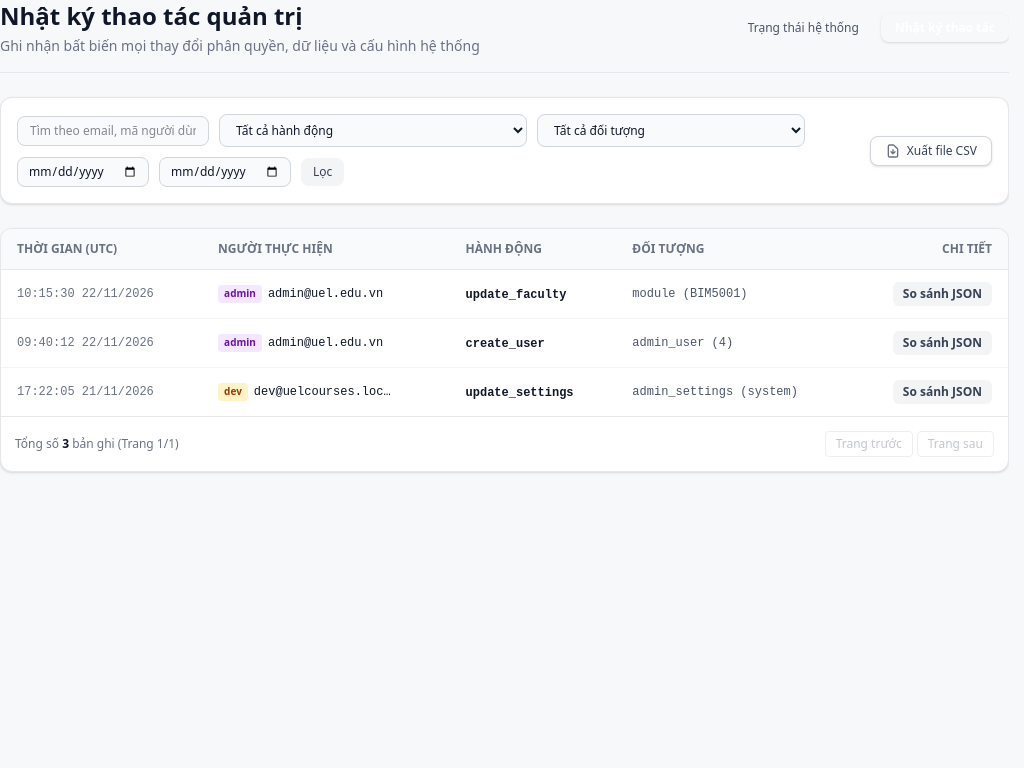
Test: Brief A6: Hệ thống, Nhật ký, Tài khoản & Cài đặt quản trị › 2. Trang Nhật ký thao tác quản trị (/admin/audit) › hiển thị danh sách nhật ký thao tác và mở hộp thoại So sánh JSON (diff)
Expected: the text "update_faculty" is shown, top-left (466, 288), bottom-right (566, 302)
Expected: the text "admin@uel.edu.vn" in the row of "10:15:30 22/11/2026" is shown, top-left (268, 287), bottom-right (383, 301)
Bấm nút "So sánh JSON"
Click the button "So sánh JSON" in the row of "10:15:30 22/11/2026" at (942, 294), box top-left (893, 282), bottom-right (992, 306)
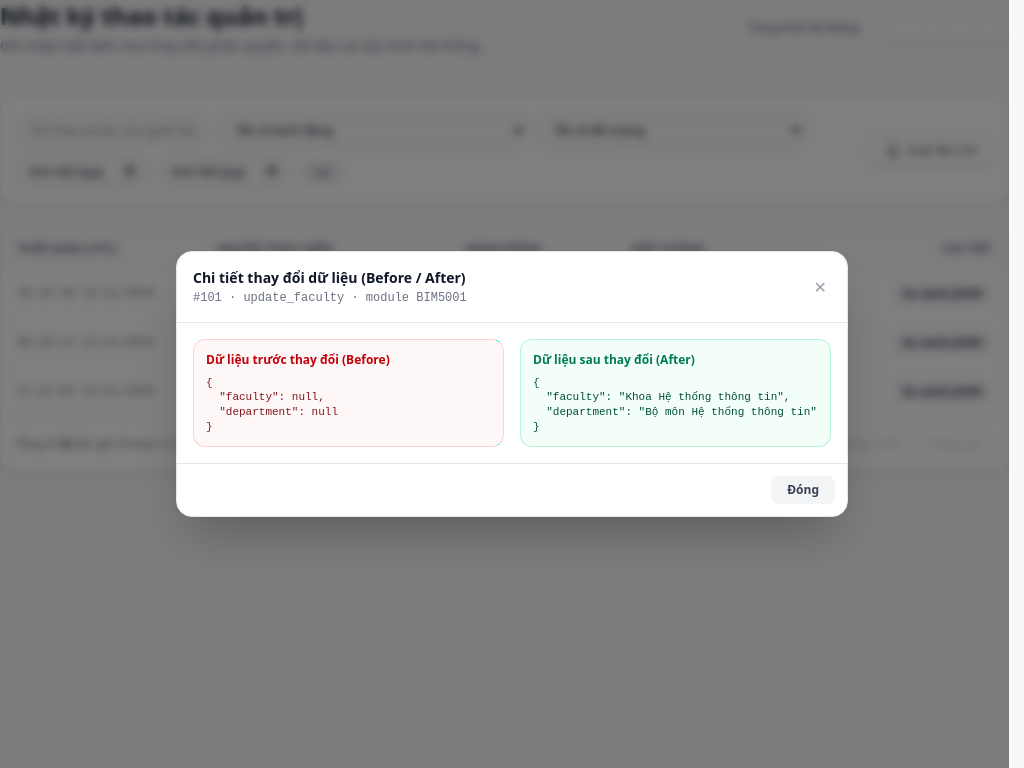
Result: the heading "Chi tiết thay đổi dữ liệu (Before / After)" is shown at top-left (193, 268), bottom-right (467, 288)
Result: the text "Dữ liệu trước thay đổi (Before)" is shown at top-left (206, 351), bottom-right (390, 368)
Result: the text "Dữ liệu sau thay đổi (After)" is shown at top-left (533, 351), bottom-right (695, 368)
Bấm Đóng modal
Click the button "Đóng" at (803, 490), box top-left (771, 476), bottom-right (835, 504)
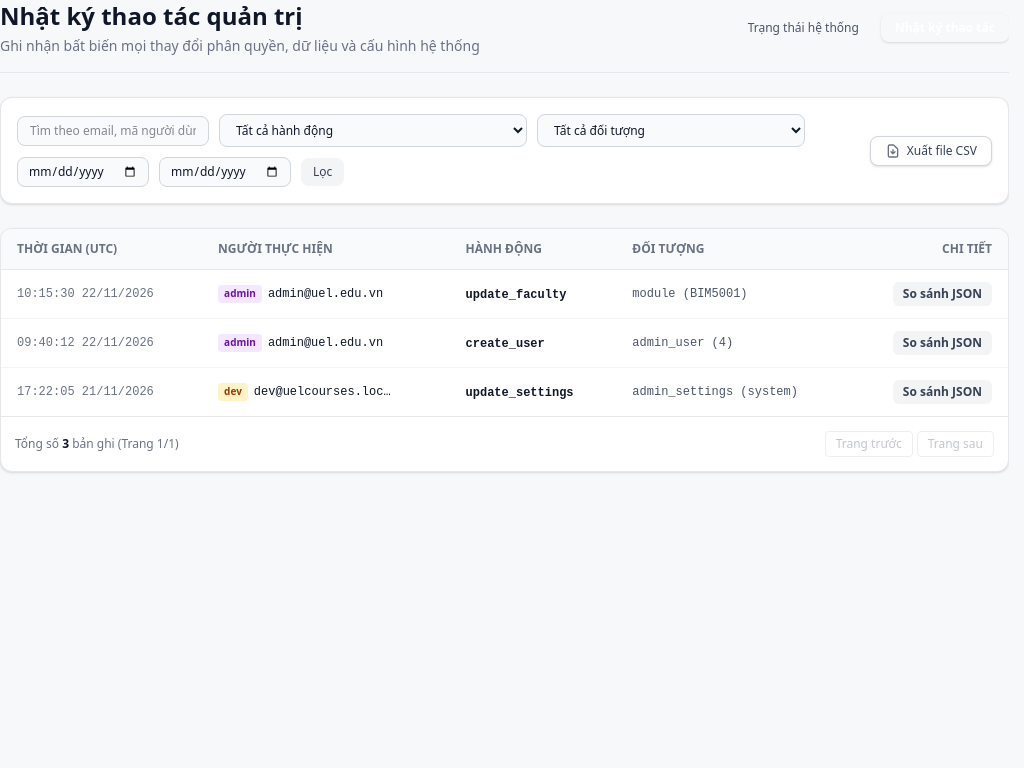
Result: the heading "Chi tiết thay đổi dữ liệu (Before / After)" is gone
